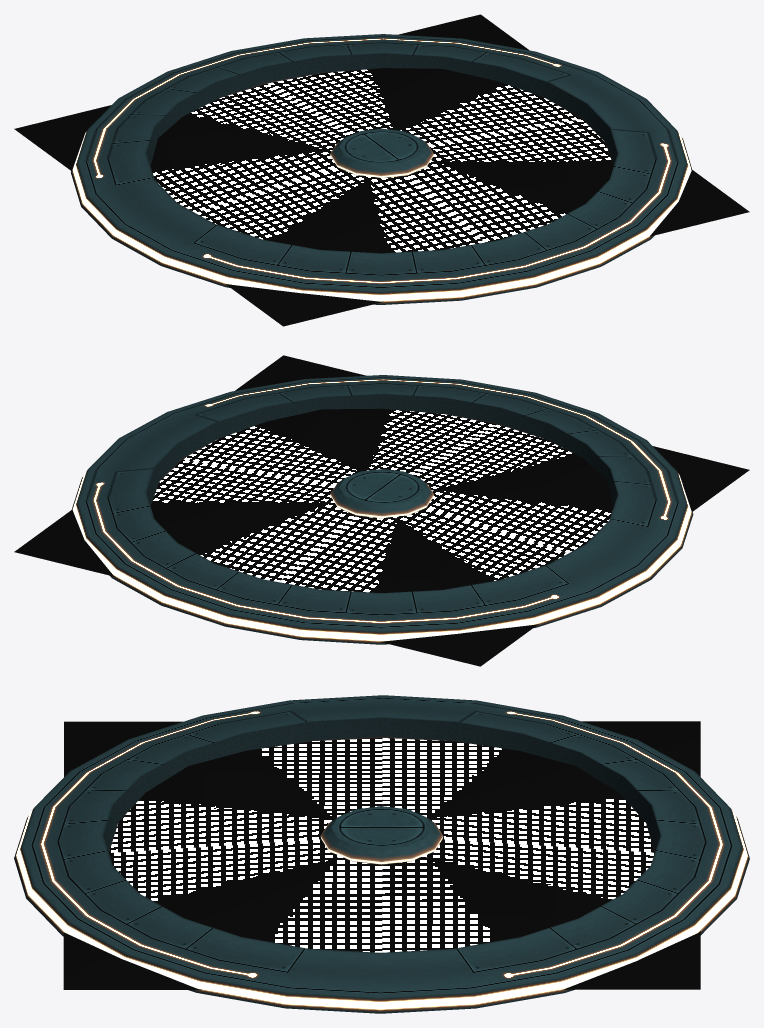
File: lightHelicopter01topRotor.glb
3 renders of one model, top to bottom at view 1: azimuth 30°, elevation 25°; view 2: azimuth 150°, elevation 25°; view 3: azimuth 270°, elevation 25°, orthographic. The views are drawn at different scales.
Visible parts, largest first — view 1: heliTopRotor, heliTopRotorDisc, heliTopRotorCenter; view 2: heliTopRotor, heliTopRotorDisc, heliTopRotorCenter; view 3: heliTopRotor, heliTopRotorDisc, heliTopRotorCenter.
Part boxes in pixels (x1,y1,x2,y2): heliTopRotor: (14,14,749,326); heliTopRotorDisc: (71,34,691,304); heliTopRotorCenter: (330,128,433,177); heliTopRotor: (14,355,749,666); heliTopRotorDisc: (71,375,693,644); heliTopRotorCenter: (330,469,433,518); heliTopRotor: (63,721,700,989); heliTopRotorDisc: (14,695,749,1013); heliTopRotorCenter: (320,806,443,864).
Size of the model in its own units: 12.99 by 0.6163 by 12.99.
3 materials, 3 textured.
